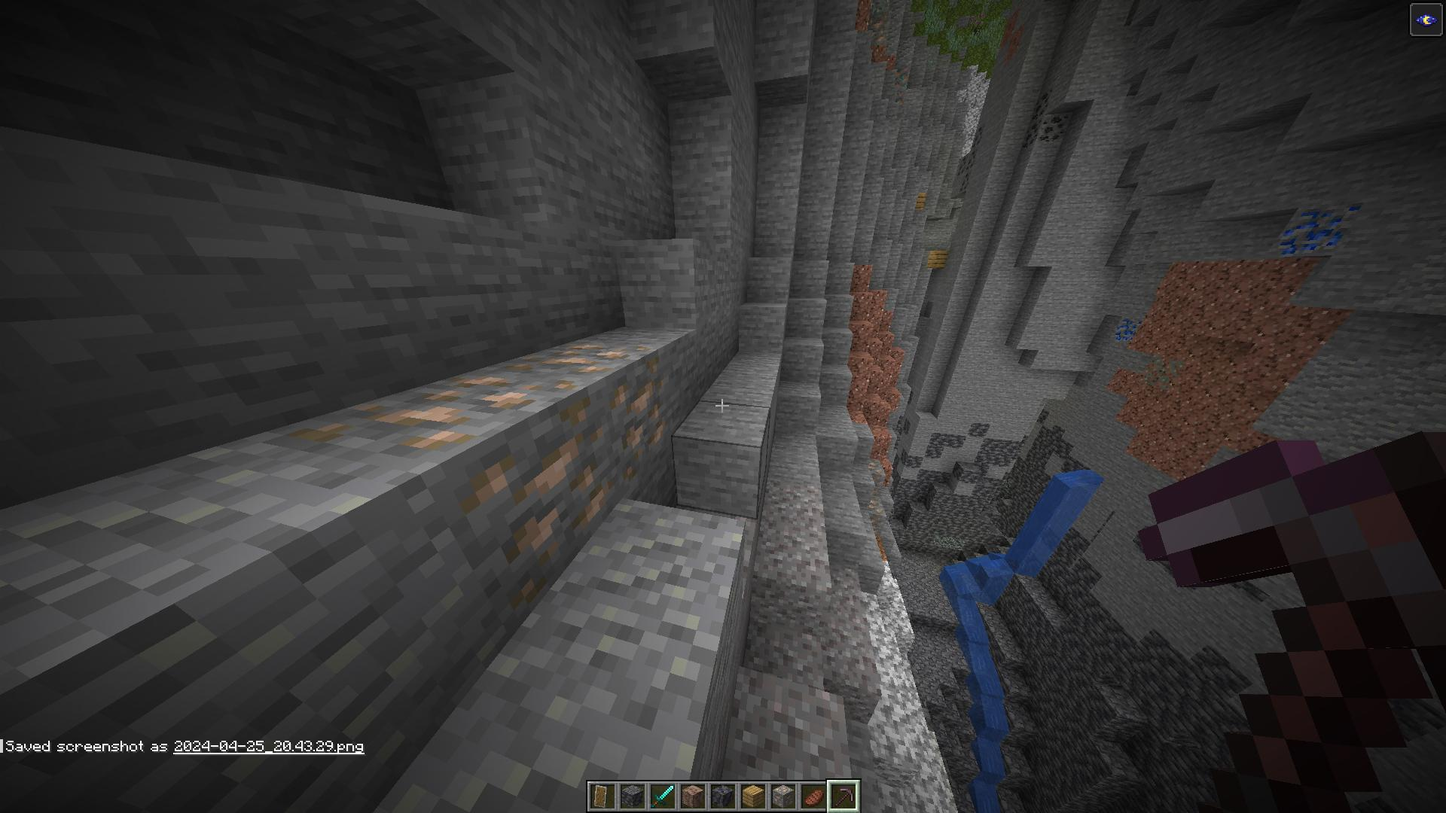iron ore: (483, 403, 607, 612), (298, 371, 557, 450), (611, 351, 664, 479), (527, 338, 646, 374), (862, 454, 890, 523), (863, 19, 894, 44)
